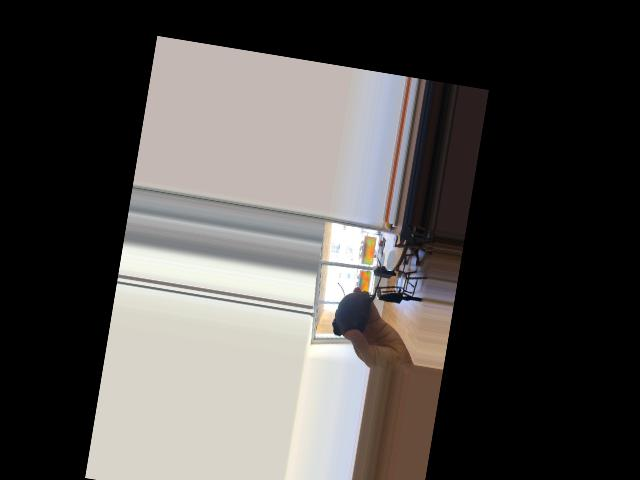beet: (330, 252, 384, 340)
